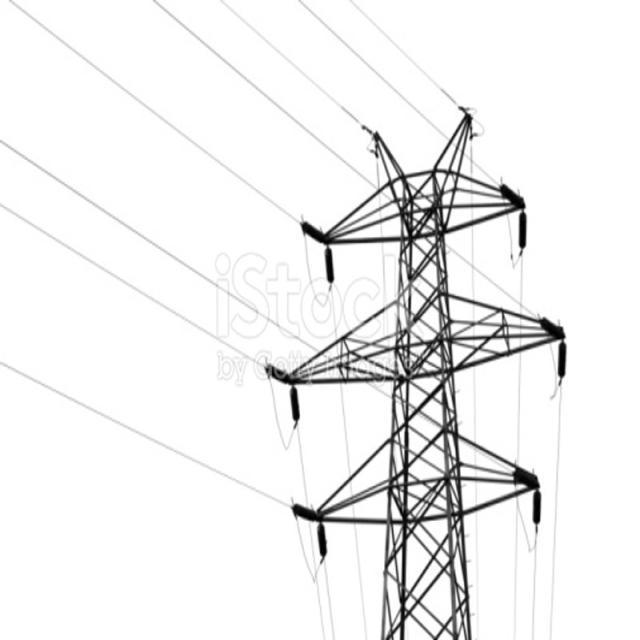non-critical vegetation: (294, 104, 537, 636)
